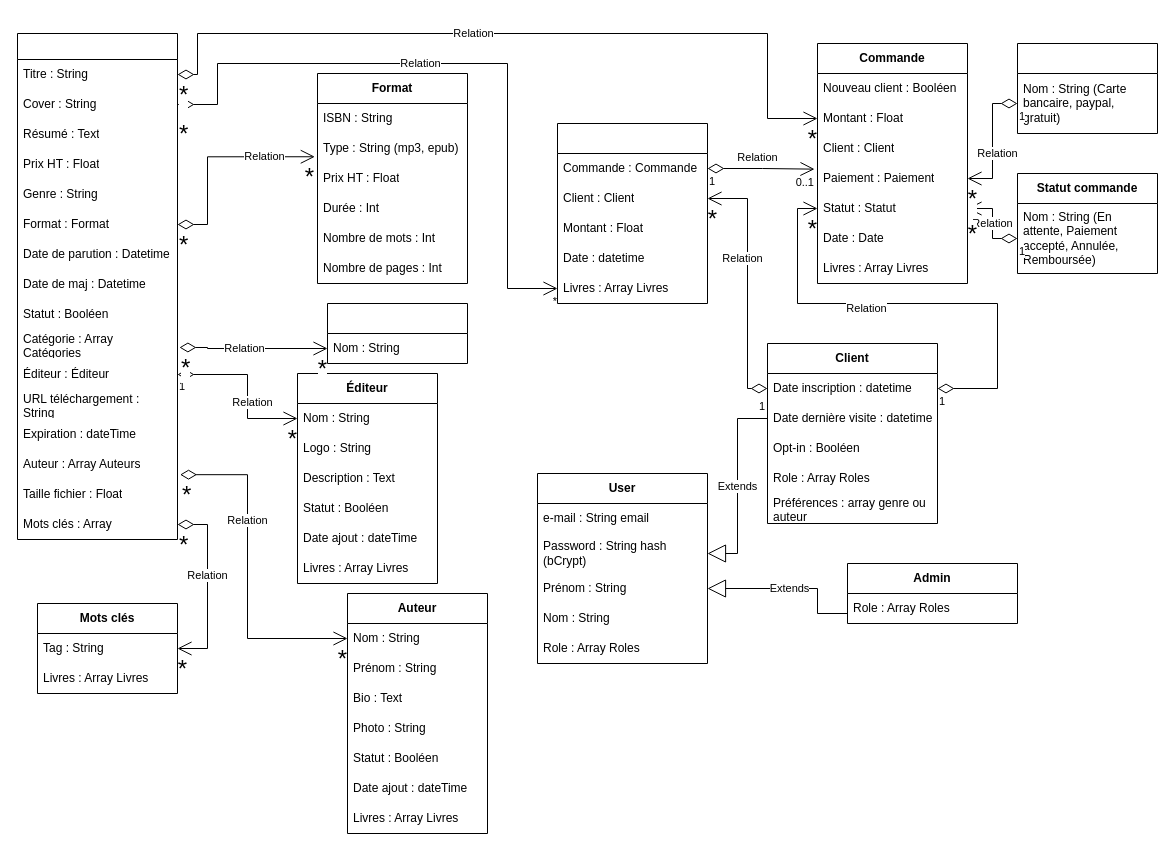
This 1175x851 diagram has some shape labels left out. Here are the shapes that lost their labels. From the top down, the box of each, then its label:
(1016, 42, 1158, 134): Paiement
(556, 122, 708, 304): Panier
(16, 32, 178, 540): Livre
(326, 302, 468, 364): Catégorie
